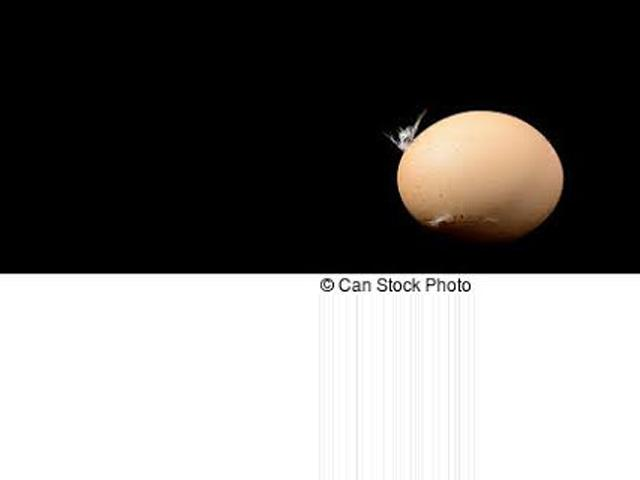egg: (397, 112, 564, 244)
